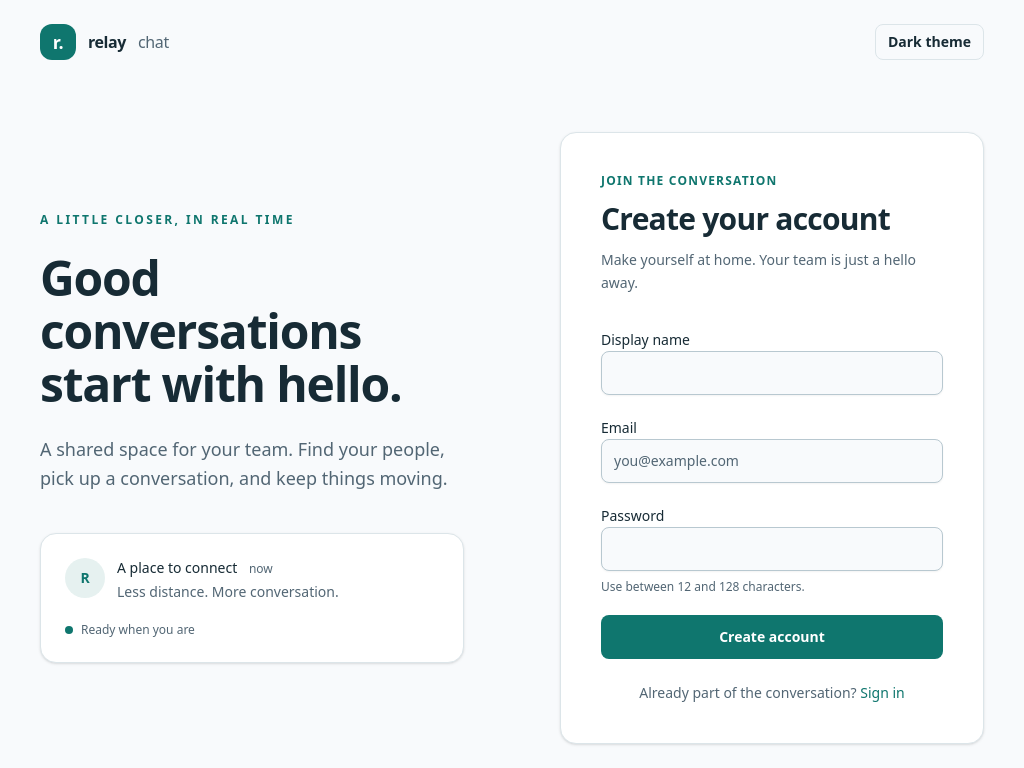
Test: web app smoke test › registers with a required display name and normalized email
The width and height of the screenshot is (1024, 768).
expect the heading "Create your account" is shown: met, box [601,198,890,239]
Type "MEMBER@example.test" into the field labelled "Email" at point(772, 460), box [601,438,943,482]
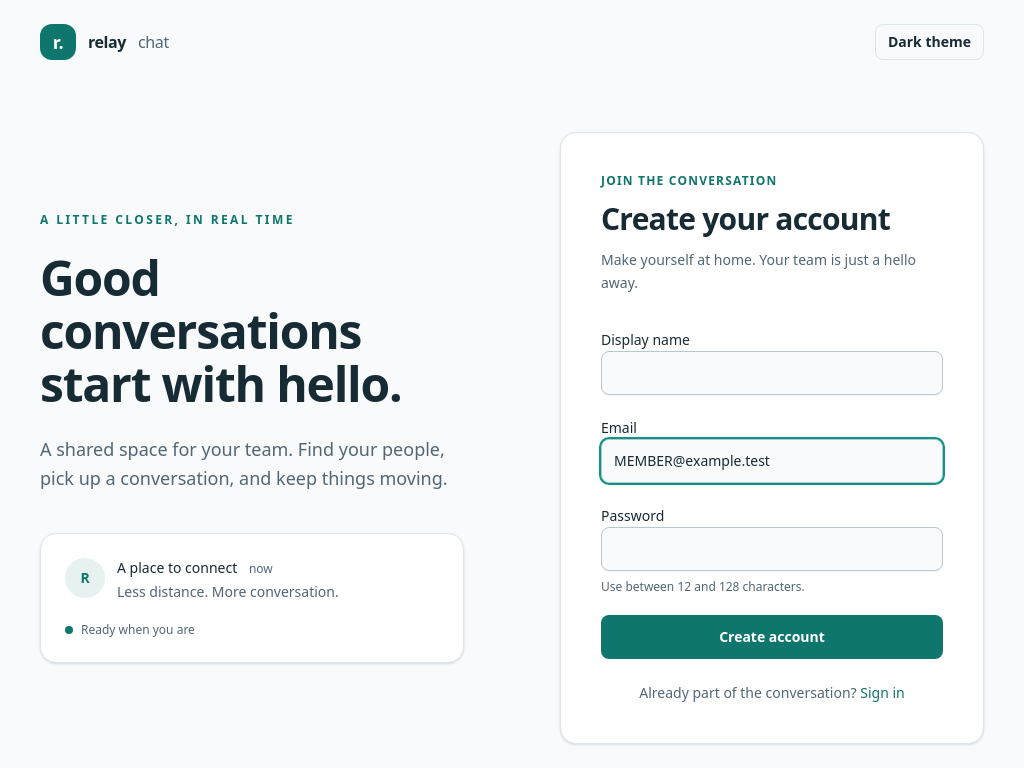
Type "test-password-long" into the password field labelled "Password" at point(772, 548), box [601,526,943,570]
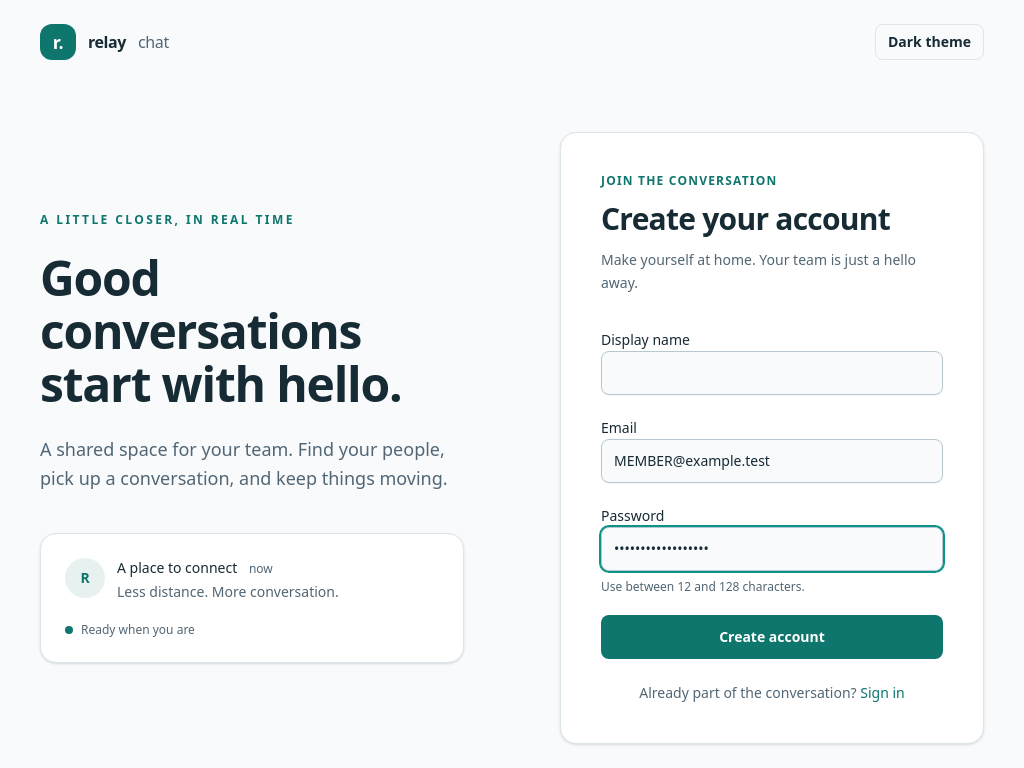
Click the button "Create account" at point(772, 636), box [601,614,943,658]
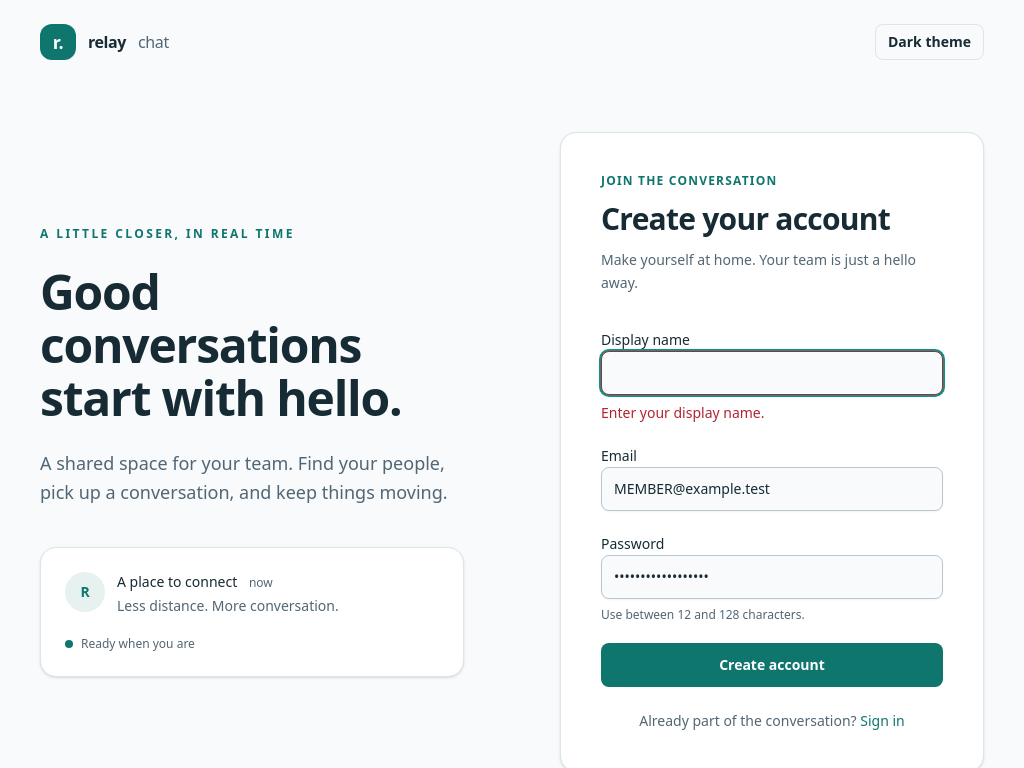
expect the text "Enter your display name." is shown: met, box [601,402,764,422]
Type "River" into the field labelled "Display name" at point(772, 372), box [601,350,943,394]
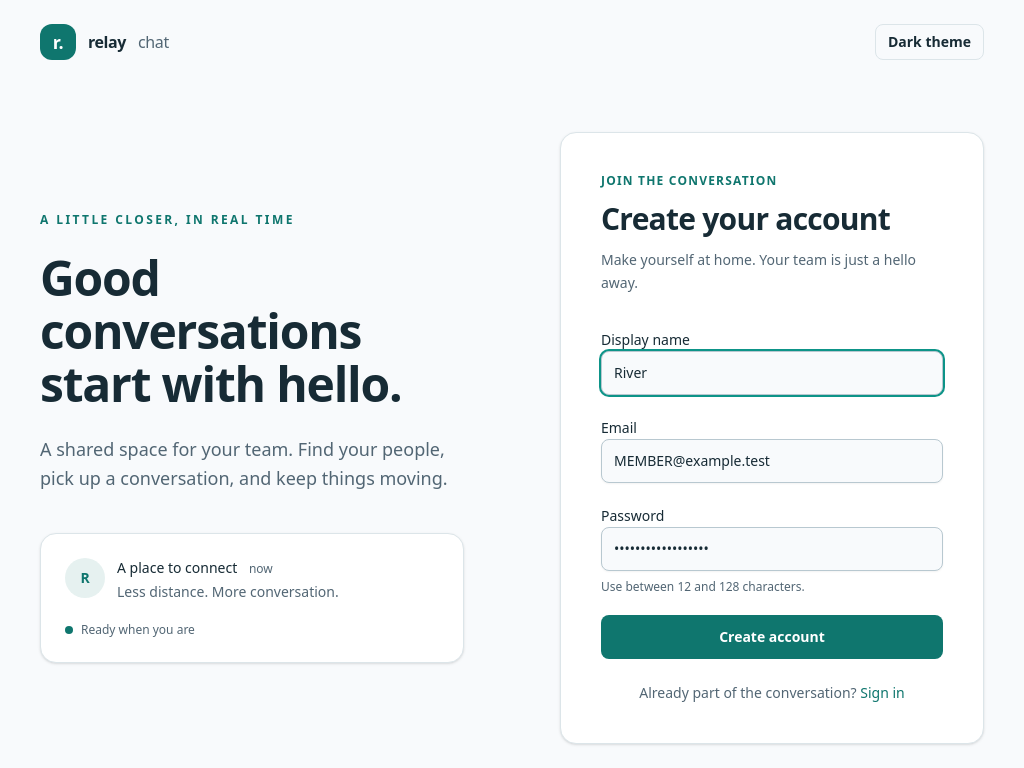
Click the button "Create account" at point(772, 636), box [601,614,943,658]
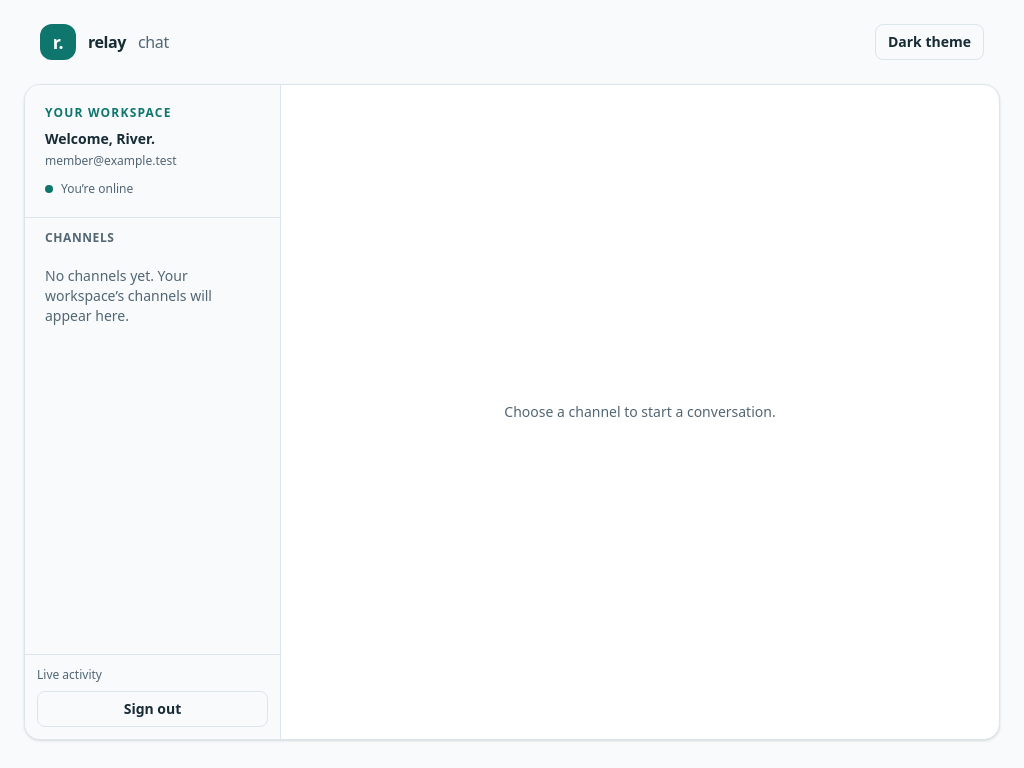
expect the heading "Welcome, River." is shown: met, box [45,129,155,148]
